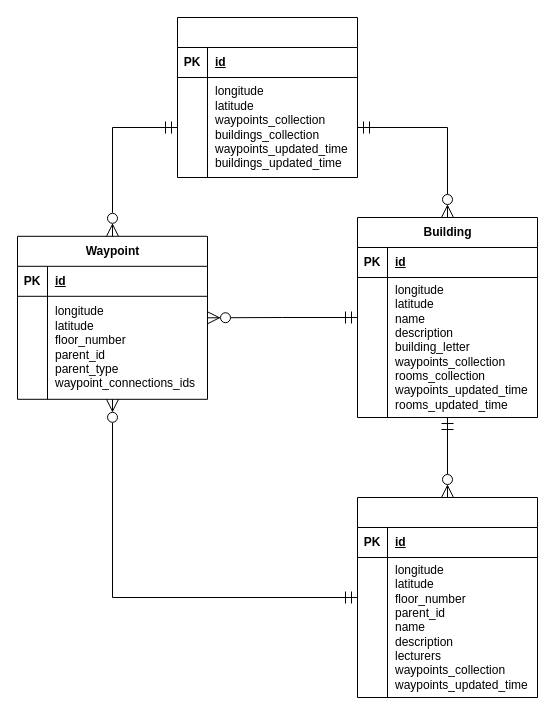
Image size: 555x715. Some labels were removed from this diagram. The box of each missing label's shape, as (x1, y1, x2, y2) in pixels:
Base Map: (176, 16, 358, 178)
Room: (356, 496, 538, 698)
